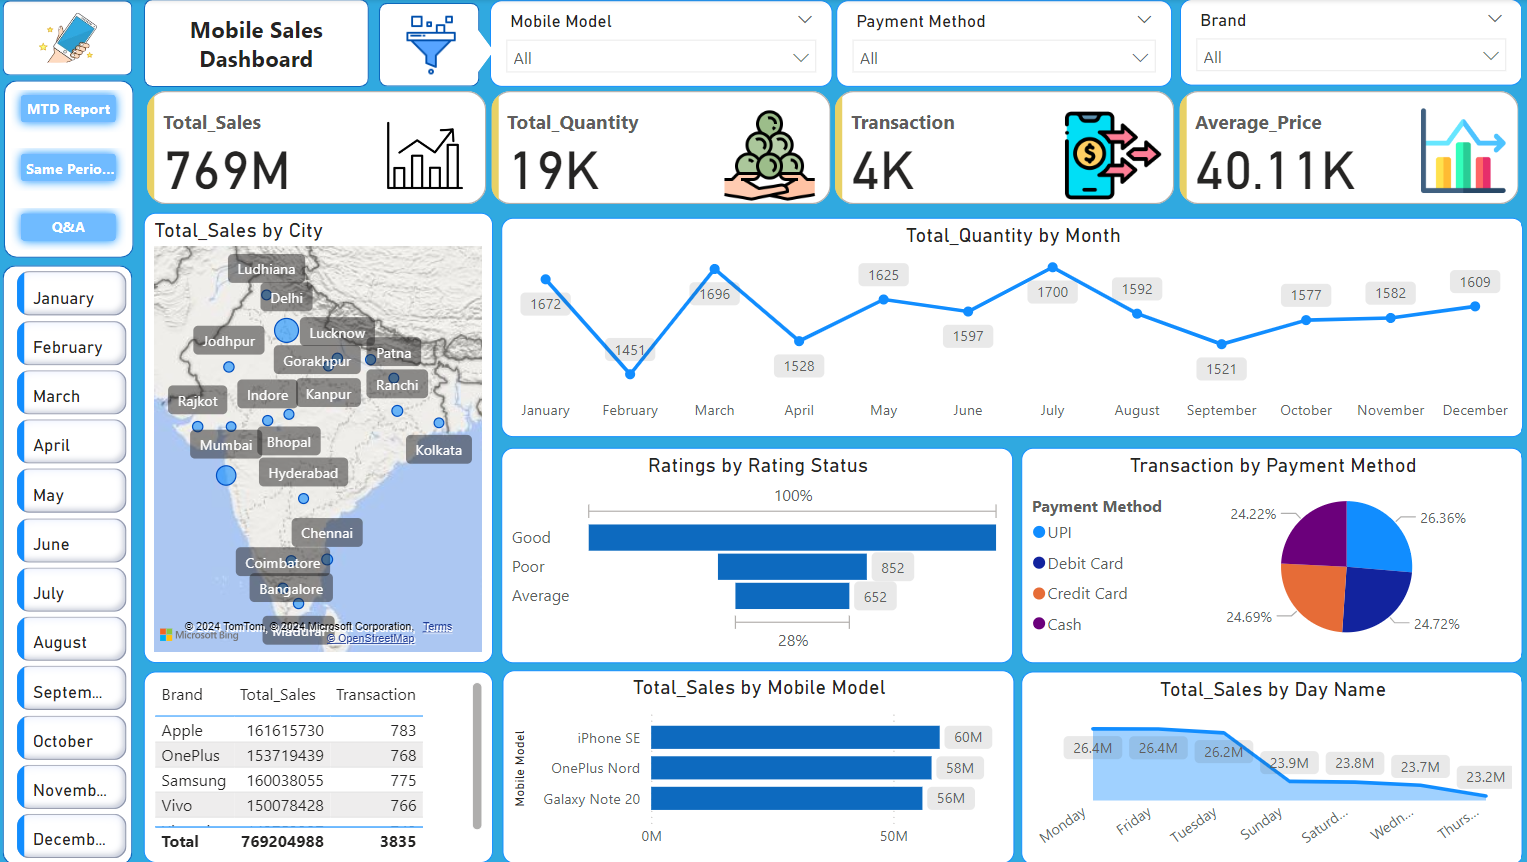

This screenshot's page, from the dashboard's own definition file:
{"tool":"powerbi","page":{"name":"Dashboard","canvas":[1280,720],"ordinal":0},"visuals":[{"type":"shape","box":[2.3,1.2,108.1,62.8],"z":0},{"type":"image","box":[25.6,1.2,61.6,61.6],"z":1000},{"type":"shape","box":[3.5,67.4,108.1,147.7],"z":2000},{"type":"shape","box":[2.3,220.9,108.1,498.8],"z":3000},{"type":"advancedSlicerVisual","fields":{"Values":["Custom_Calender.Date.Variation.Date Hierarchy.Month"]},"box":[9.3,220.9,101.2,498.8],"z":4000},{"type":"cardVisual","fields":{"Data":["Sales_Data.Total_Sales","Sales_Data.Total_Quantity","Sales_Data.Transaction","Sales_Data.Average_Price"]},"box":[117.4,72.1,1150,104.7],"z":5000},{"type":"slicer","fields":{"Values":["Sales_Data.Mobile Model"]},"box":[407,1.2,284.9,72.1],"z":6000},{"type":"slicer","fields":{"Values":["Sales_Data.Payment Method"]},"box":[695.4,1.2,279.1,72.1],"z":7000},{"type":"slicer","fields":{"Values":["Sales_Data.Brand"]},"box":[981.4,0,284.9,72.1],"z":8000},{"type":"shape","box":[315.1,3.5,83.7,69.8],"z":9000},{"type":"image","box":[327.9,8.1,60.5,60.5],"z":10000},{"type":"shape","box":[380.2,23.3,30.2,40.7],"z":11000},{"type":"shape","box":[119.8,0,187.2,73.3],"z":12000},{"type":"textbox","box":[133.7,7,158.1,60.5],"z":13000},{"type":"map","fields":{"Category":["Sales_Data.City"],"Size":["Sales_Data.Total_Sales"]},"box":[119.8,177.9,290.7,374.4],"z":14000},{"type":"lineChart","fields":{"Y":["Sales_Data.Total_Quantity"],"Category":["Custom_Calender.Date.Variation.Date Hierarchy.Month"]},"box":[416.3,181.4,850,182.6],"z":15000},{"type":"funnel","title":"Ratings by Rating Status","fields":{"Y":["CountNonNull(Sales_Data.Customer Ratings)"],"Category":["Sales_Data.Rating Status"]},"box":[417,372.8,425.6,179.1],"z":16000},{"type":"pieChart","fields":{"Y":["Sales_Data.Transaction"],"Category":["Sales_Data.Payment Method"]},"box":[848.8,373.3,417.4,179.1],"z":17000},{"type":"clusteredBarChart","fields":{"Y":["Sales_Data.Total_Sales"],"Category":["Sales_Data.Mobile Model"]},"box":[417.7,558.1,425.4,160.5],"z":18000},{"type":"areaChart","fields":{"Y":["Sales_Data.Total_Sales"],"Category":["Custom_Calender.Day Name"]},"box":[848.8,559.3,417.4,160.5],"z":19000},{"type":"tableEx","fields":{"Values":["Sales_Data.Brand","Sales_Data.Total_Sales","Sales_Data.Transaction"]},"box":[119.8,559.3,290.7,159.3],"z":20000},{"type":"pageNavigator","box":[9.3,72.1,95.3,138.4],"z":21000}]}

Visuals, with their boxes in screenshot pixels (x1, y1, x2, y2), scaled from the page's 1280x720 canvas onto the 1527x862 screenshot:
shape: 3/1/132/77
image: 31/1/104/75
shape: 4/81/133/258
shape: 3/264/132/861
advancedSlicerVisual - Custom_Calender.Date.Variation.Date Hierarchy.Month: 11/264/132/861
cardVisual - Sales_Data.Total_Sales x Sales_Data.Total_Quantity: 140/86/1512/212
slicer - Sales_Data.Mobile Model: 486/1/825/88
slicer - Sales_Data.Payment Method: 830/1/1163/88
slicer - Sales_Data.Brand: 1171/0/1511/86
shape: 376/4/476/88
image: 391/10/463/82
shape: 454/28/490/77
shape: 143/0/366/88
textbox: 159/8/348/81
map - Sales_Data.City x Sales_Data.Total_Sales: 143/213/490/661
lineChart - Sales_Data.Total_Quantity x Custom_Calender.Date.Variation.Date Hierarchy.Month: 497/217/1511/436
"Ratings by Rating Status" funnel: 497/446/1005/661
pieChart - Sales_Data.Transaction x Sales_Data.Payment Method: 1013/447/1511/661
clusteredBarChart - Sales_Data.Total_Sales x Sales_Data.Mobile Model: 498/668/1006/860
areaChart - Sales_Data.Total_Sales x Custom_Calender.Day Name: 1013/670/1511/861
tableEx - Sales_Data.Brand x Sales_Data.Total_Sales: 143/670/490/860
pageNavigator: 11/86/125/252
